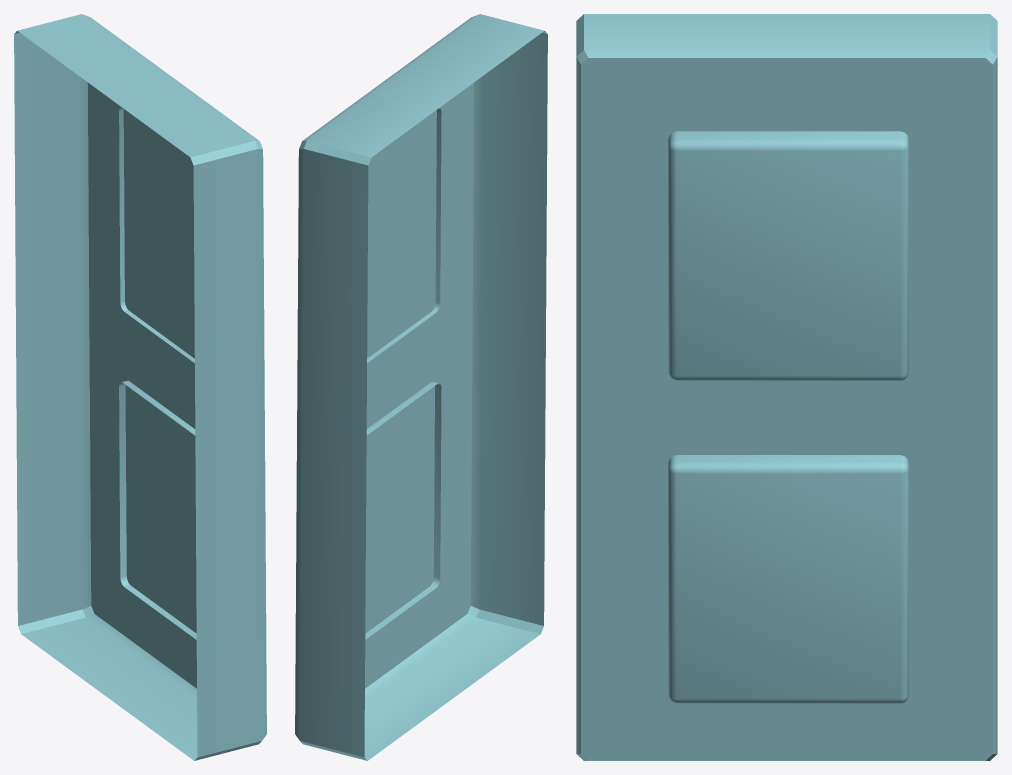
Rendered from Light Switch.FBX.
3 views of the same model, side by side, from view 1: azimuth 30°, elevation 25°; view 2: azimuth 150°, elevation 25°; view 3: azimuth 270°, elevation 25° (orthographic). The views are drawn at different scales.
Visible parts, largest first — view 1: Box001, ChamferBox002, ChamferBox001; view 2: Box001, ChamferBox002, ChamferBox001; view 3: Box001, ChamferBox001, ChamferBox002.
Boxes of the visible parts, x1,y1,x2,y2 form: Box001: (14, 14, 266, 760); ChamferBox002: (119, 380, 196, 639); ChamferBox001: (119, 107, 194, 362); Box001: (295, 14, 547, 760); ChamferBox002: (365, 381, 441, 639); ChamferBox001: (367, 108, 441, 362); Box001: (576, 14, 997, 760); ChamferBox001: (668, 131, 908, 380); ChamferBox002: (668, 455, 908, 703).
Size of the model in its own units: 1.7 by 10.41 by 5.6.
